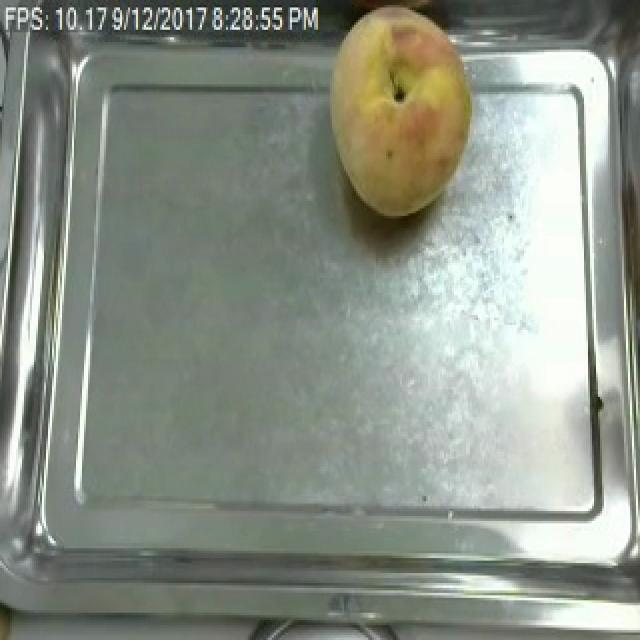Fruit: (314, 0, 482, 223)
